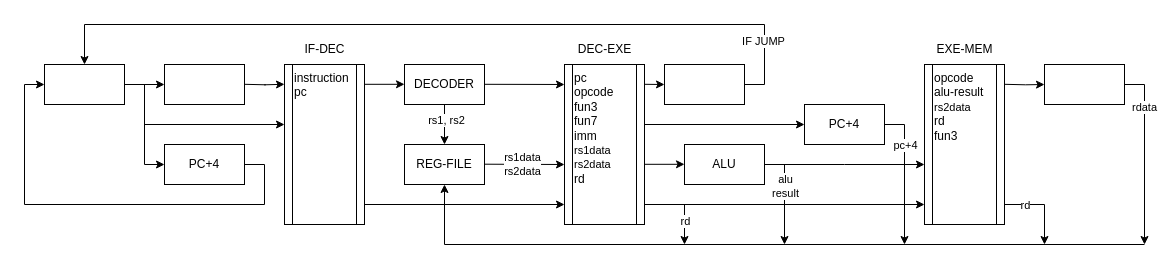
Image size: 1174x270. Some labels were removed from this diagram. Here are the shapes that lost their labels. From the top down, the box of each, then its label:
(44, 64, 124, 104): PC
(164, 64, 244, 104): I-CACHE
(664, 64, 744, 104): PC+IMM
(1044, 64, 1124, 104): D-CACHE
